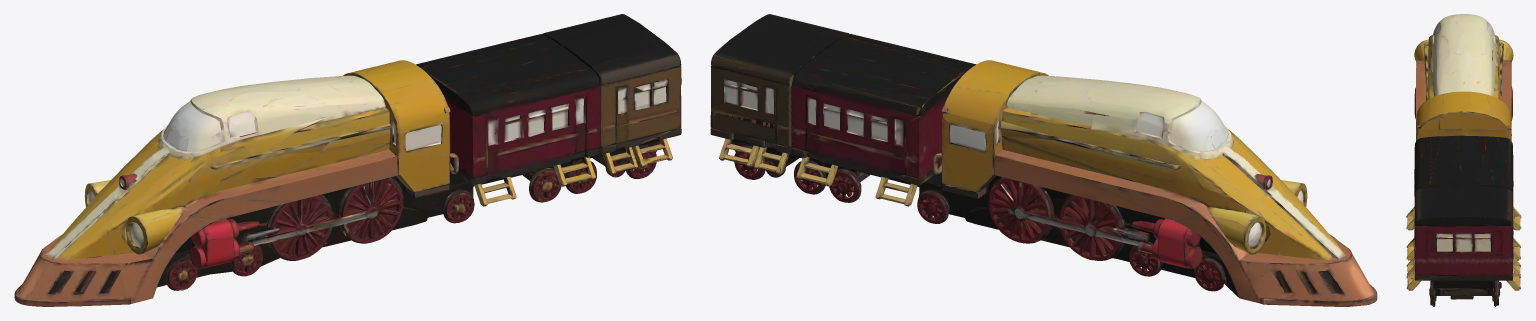
The model's file is storytrain.glb.
The picture shows the model from 3 angles, left to right: view 1: azimuth 30°, elevation 25°; view 2: azimuth 150°, elevation 25°; view 3: azimuth 270°, elevation 25°; orthographic projection. The views are drawn at different scales.
Size of the model in its own units: 1.91 by 0.4724 by 0.3775.
1 material, 1 textured.
